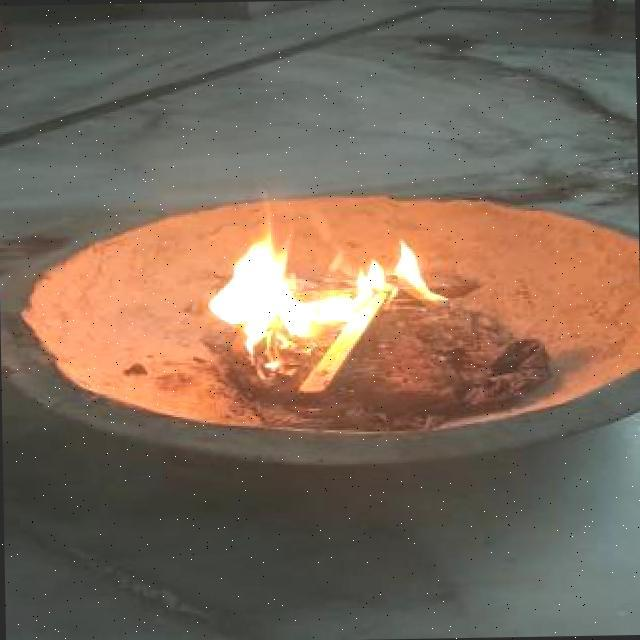Fire: (188, 206, 447, 360)
